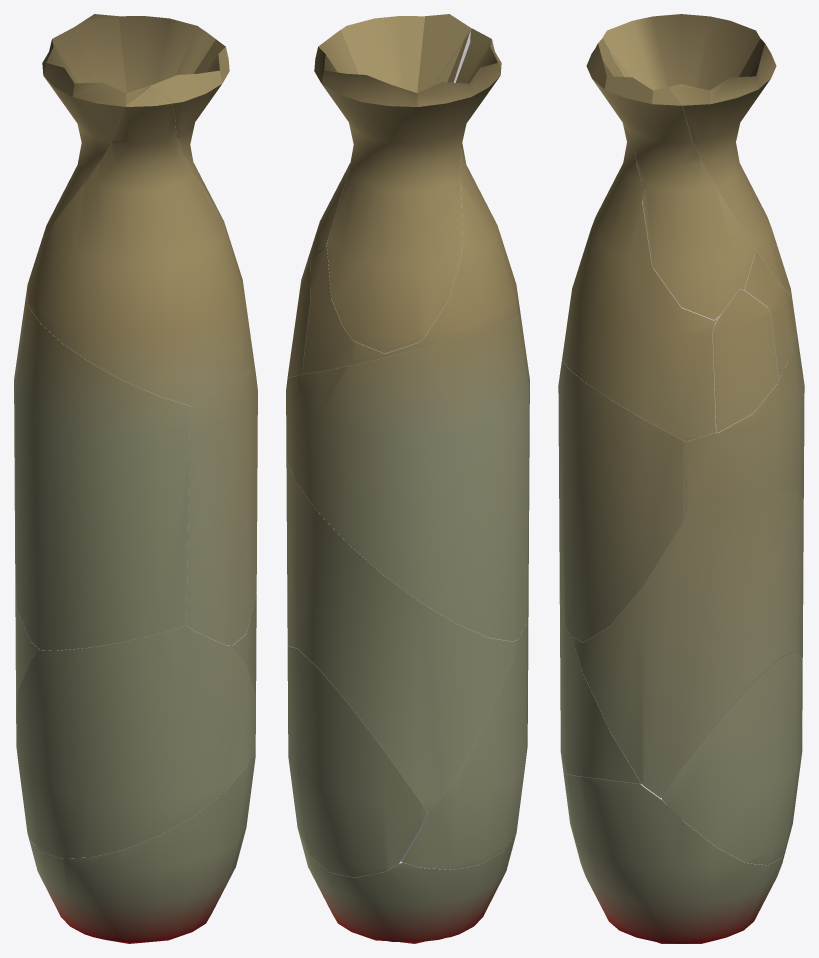
File: vasebroken.fbx
3 views of the same model, side by side, from view 1: azimuth 30°, elevation 25°; view 2: azimuth 150°, elevation 25°; view 3: azimuth 270°, elevation 25° (orthographic).
Parts seen in each view (by area): view 1: Cylinder_cell.008, Cylinder_cell.013, Cylinder_cell.009, Cylinder_cell.002, Cylinder_cell.011, Cylinder_cell, Cylinder_cell.010, Cylinder_cell.012; view 2: Cylinder_cell.008, Cylinder_cell, Cylinder_cell.012, Cylinder_cell.004, Cylinder_cell.009, Cylinder_cell.013, Cylinder_cell.002, Cylinder_cell.010, Cylinder_cell.006; view 3: Cylinder_cell.012, Cylinder_cell.013, Cylinder_cell.011, Cylinder_cell.002, Cylinder_cell.010, Cylinder_cell.004, Cylinder_cell, Cylinder_cell.008, Cylinder_cell.006, Cylinder_cell.009.
Boxes of the visible parts, bbox=[...] form: Cylinder_cell.008: bbox=[14, 293, 191, 650]; Cylinder_cell.013: bbox=[26, 86, 254, 405]; Cylinder_cell.009: bbox=[16, 625, 255, 858]; Cylinder_cell.002: bbox=[29, 744, 255, 943]; Cylinder_cell.011: bbox=[186, 361, 257, 645]; Cylinder_cell: bbox=[37, 14, 215, 254]; Cylinder_cell.010: bbox=[150, 39, 229, 221]; Cylinder_cell.012: bbox=[15, 577, 256, 723]; Cylinder_cell.008: bbox=[286, 314, 529, 641]; Cylinder_cell: bbox=[314, 28, 501, 353]; Cylinder_cell.012: bbox=[286, 459, 517, 813]; Cylinder_cell.004: bbox=[287, 646, 427, 877]; Cylinder_cell.009: bbox=[401, 598, 528, 869]; Cylinder_cell.013: bbox=[302, 31, 520, 374]; Cylinder_cell.002: bbox=[298, 831, 516, 943]; Cylinder_cell.010: bbox=[305, 14, 471, 268]; Cylinder_cell.006: bbox=[287, 261, 310, 377]; Cylinder_cell.012: bbox=[572, 492, 803, 797]; Cylinder_cell.013: bbox=[562, 40, 795, 441]; Cylinder_cell.011: bbox=[558, 360, 686, 642]; Cylinder_cell.002: bbox=[563, 773, 788, 943]; Cylinder_cell.010: bbox=[586, 38, 755, 319]; Cylinder_cell.004: bbox=[661, 650, 802, 865]; Cylinder_cell: bbox=[603, 14, 792, 298]; Cylinder_cell.008: bbox=[685, 323, 804, 513]; Cylinder_cell.006: bbox=[712, 289, 778, 432]; Cylinder_cell.009: bbox=[559, 589, 641, 783].
Bounding box in the file's own units: 293 × 1154 × 293.
